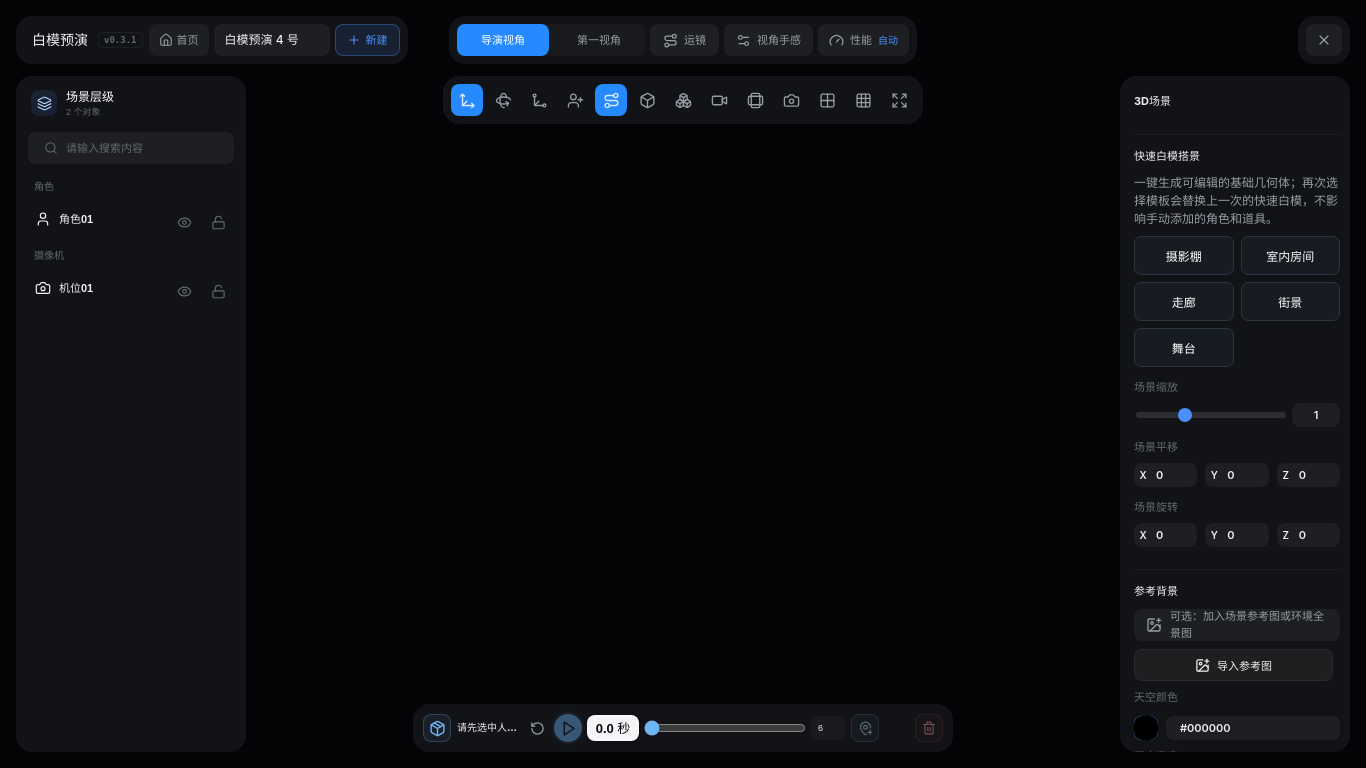
Scenario: returns to a real home page that lists director desks 1 through 4
Click the button with aria-label "返回首页" at (178, 40), box x1=148 y1=24 x2=208 y2=56
(page scrolled)
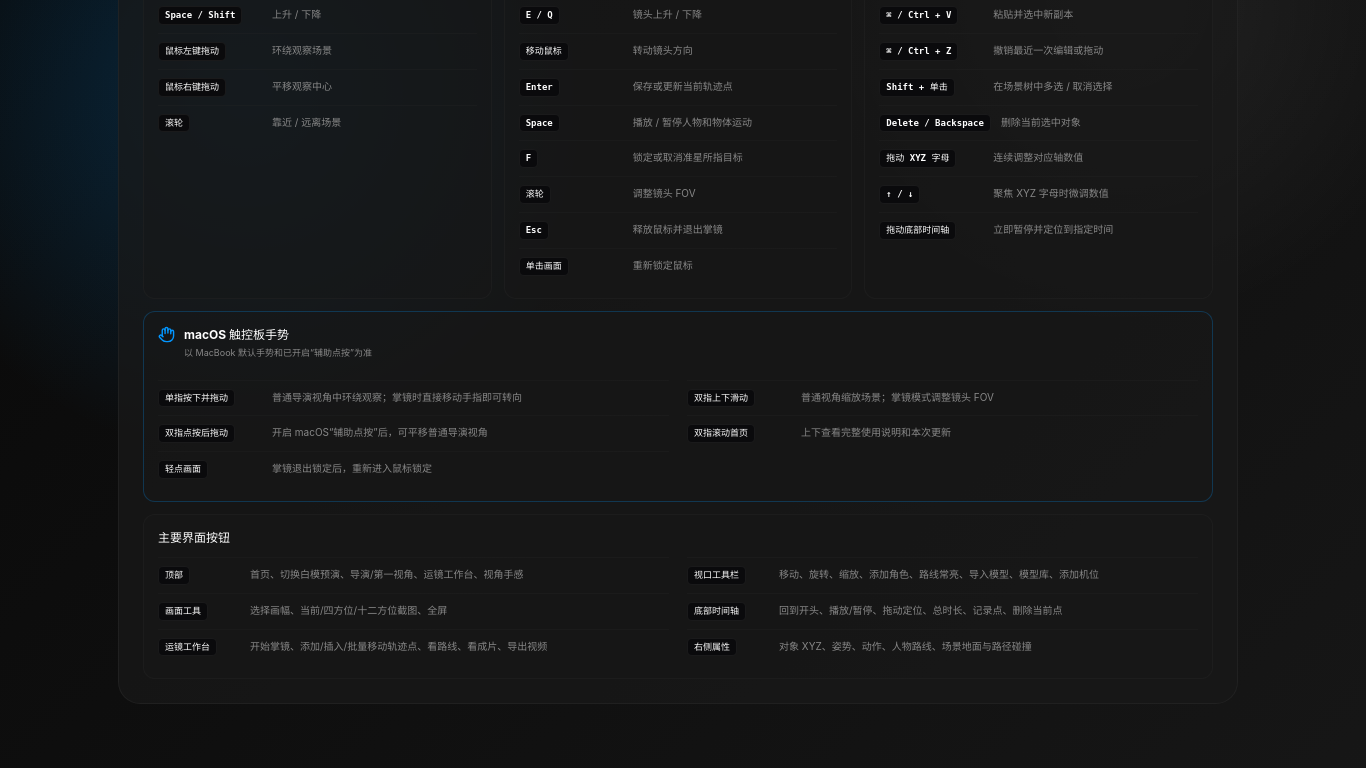
expect the heading "macOS 触控板手势" is shown: met, box x1=184 y1=327 x2=289 y2=342
expect the text "⌘ / Ctrl + Z" is shown: met, box x1=879 y1=42 x2=958 y2=61
expect the text "双指点按后拖动" is shown: met, box x1=158 y1=424 x2=235 y2=443
